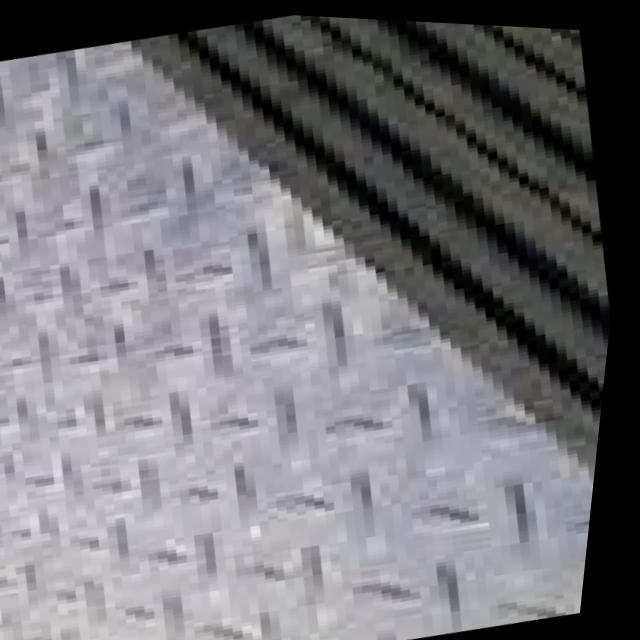metal-plates: (1, 39, 606, 640)
